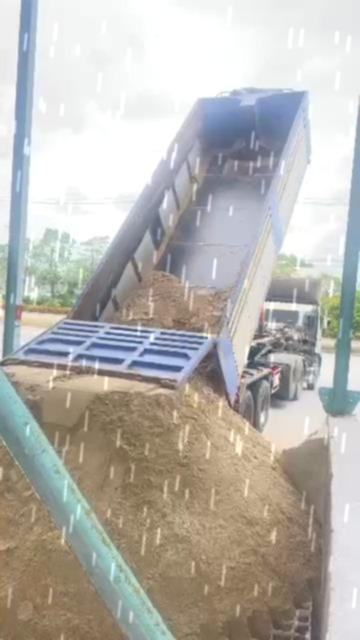sand: (44, 381, 320, 639), (0, 447, 120, 639), (8, 367, 169, 425), (113, 271, 227, 332), (280, 425, 330, 522), (195, 350, 220, 388)
